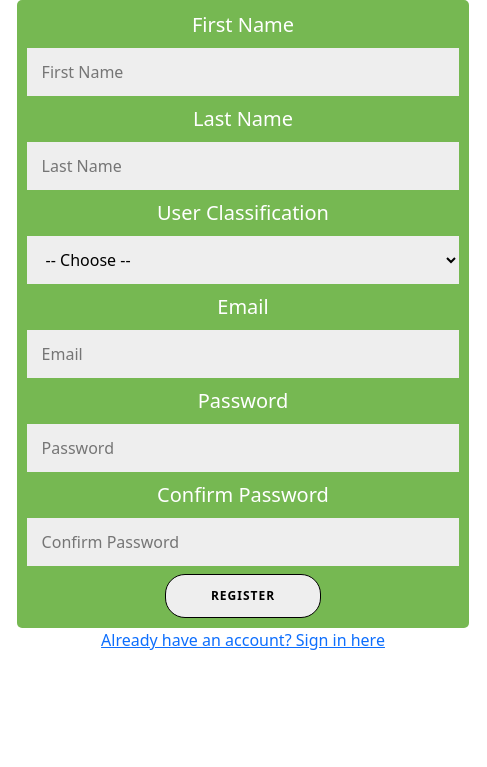
Test: should show error message when first name is the incorrect format
The image size is (487, 767).
Type "Name1" into the field named "first-name" at x=243, y=72, box [27, 48, 459, 96]
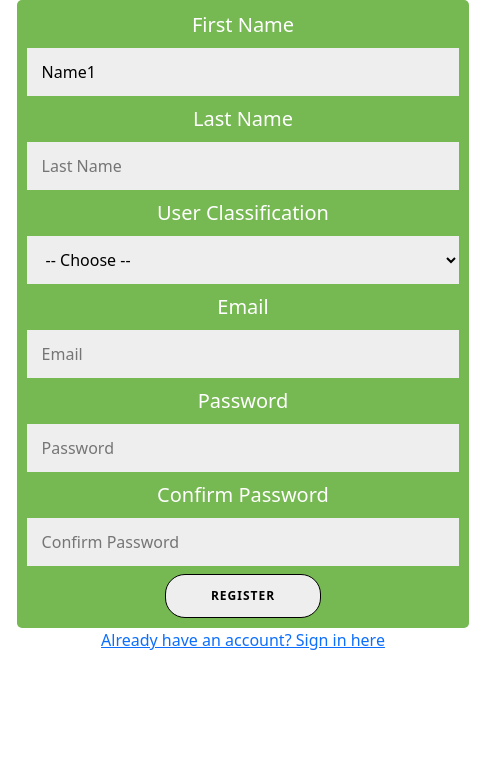
Click the button at x=243, y=596, box [165, 574, 321, 618]
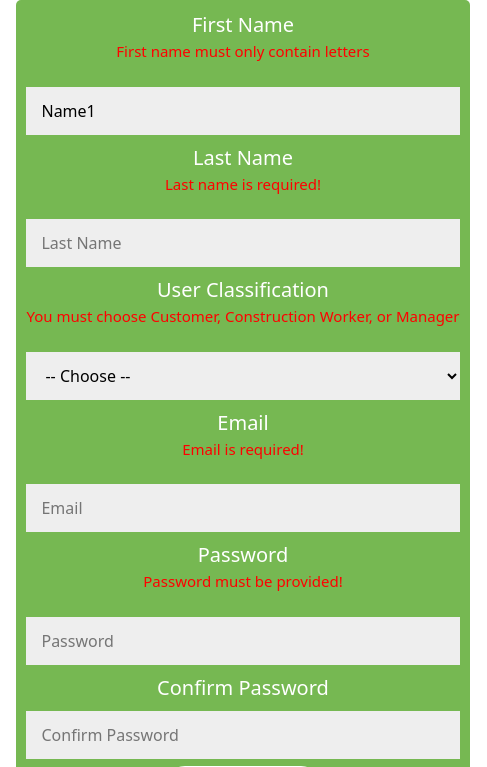
expect the text named "first-name-error" is shown: met, box [116, 41, 370, 61]
